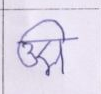e_matra: (39, 19, 71, 38)
